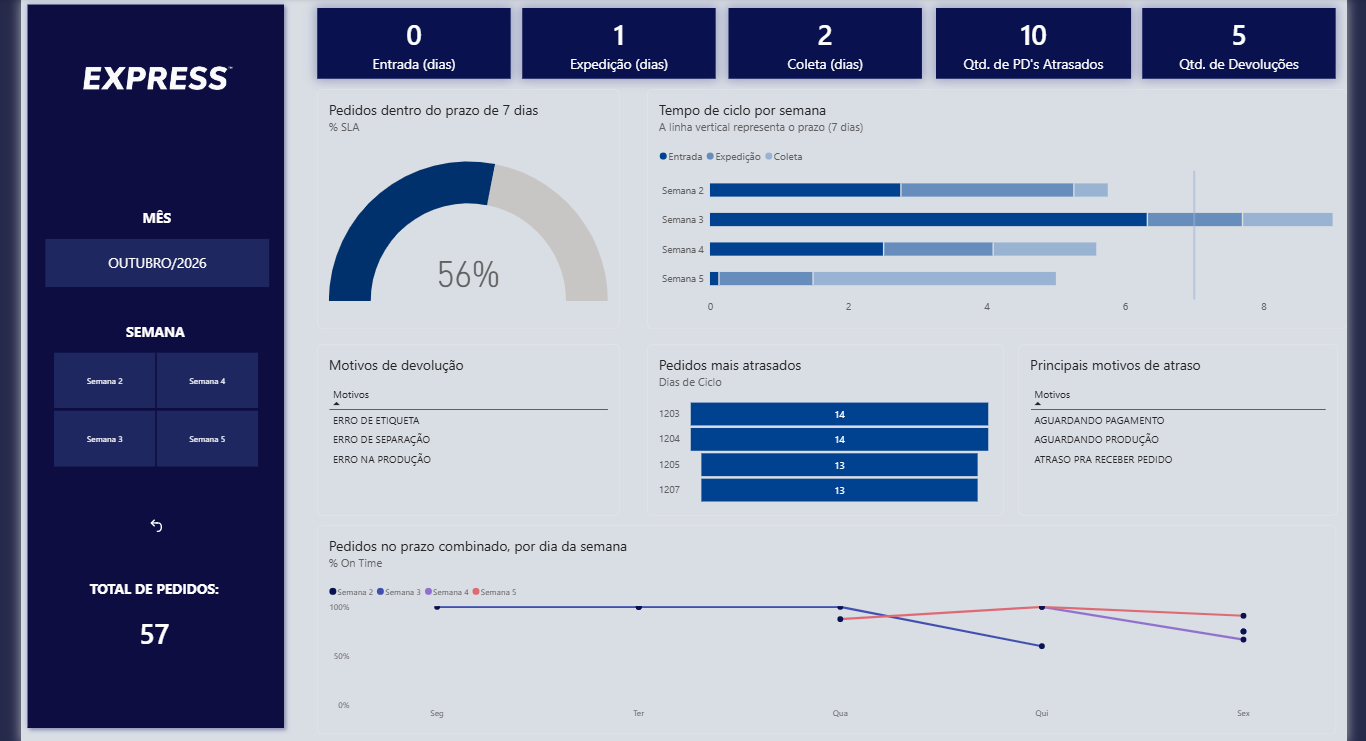

Layout of this report page (visuals, bound fields, positions):
{"tool":"powerbi","page":{"name":"Página 1","canvas":[1920,1080],"ordinal":0},"visuals":[{"type":"shape","box":[0,0,390,1066],"z":0},{"type":"card","fields":{"Values":["_Medidas.Tempo de Processo de Entrada"]},"box":[428,14,280,102],"z":1000},{"type":"card","fields":{"Values":["_Medidas.QTD Devoluções"]},"box":[1624,14,280,102],"z":2000},{"type":"card","fields":{"Values":["_Medidas.Tempo de Expedição"]},"box":[726,14,280,102],"z":3000},{"type":"card","title":"TOTAL DE PEDIDOS:","fields":{"Values":["_Medidas.QTD PDs do Mês"]},"box":[48.9,841.5,288,114],"z":4000},{"type":"card","fields":{"Values":["_Medidas.Tempo de Coleta"]},"box":[1024,14,280,102],"z":5000},{"type":"gauge","title":"Pedidos dentro do prazo de 7 dias","fields":{"Y":["_Medidas.% SLA"]},"box":[428.9,132.1,437.9,347.5],"z":6000},{"type":"lineChart","title":"Pedidos no prazo combinado, por dia da semana","fields":{"Category":["fExpedicao.Dia da Semana (Saída)"],"Series":["fExpedicao.Semana do Mês (p Saída)"],"Y":["_Medidas.% On Time"]},"box":[428.9,763.7,1474.9,302.2],"z":7000},{"type":"barChart","title":"Tempo de ciclo por semana","fields":{"Category":["fExpedicao.Semana do Mês (p Saída)"],"Y":["_Medidas.Dias Entrada (média)","_Medidas.Dias Expedição (base)","_Medidas.Dias Coleta (base)"]},"box":[906.6,132.1,1013.4,347.5],"z":8000},{"type":"slicer","title":"MÊS","fields":{"Values":["fExpedicao.MÊS"]},"box":[14,304,364,116],"z":9000},{"type":"slicer","title":"SEMANA","fields":{"Values":["fExpedicao.Semana do Mês (p Saída)"]},"box":[27.1,468.7,334.8,211.7],"z":10000},{"type":"card","fields":{"Values":["_Medidas.QTD Pedidos Atrasados"]},"box":[1324,14,282,102],"z":12000},{"type":"tableEx","title":"Motivos de devolução","fields":{"Values":["fExpedicao.DEVOLUÇÃO"]},"box":[428.9,501.3,438,248],"z":13000},{"type":"tableEx","title":"Principais motivos de atraso","fields":{"Values":["fExpedicao.ATRASO"]},"box":[1444.1,501.3,462,248],"z":14000},{"type":"funnel","title":"Pedidos mais atrasados","fields":{"Category":["fExpedicao.ID PEDIDO"],"Y":["_Medidas.Dias de Ciclo (atrasados)"]},"box":[906.6,501.3,515.9,248.5],"z":15000},{"type":"actionButton","title":"Redefinir","box":[141.2,705.8,110,116],"z":16000},{"type":"image","box":[0,34.4,390.9,162.9],"z":16001}]}

Visuals, with their boxes in screenshot pixels (x1, y1, x2, y2):
shape: <bbox>18, 0, 281, 713</bbox>
card - _Medidas.Tempo de Processo de Entrada: <bbox>307, 2, 496, 71</bbox>
card - _Medidas.QTD Devoluções: <bbox>1115, 2, 1304, 71</bbox>
card - _Medidas.Tempo de Expedição: <bbox>508, 2, 697, 71</bbox>
"TOTAL DE PEDIDOS:" card: <bbox>51, 561, 245, 638</bbox>
card - _Medidas.Tempo de Coleta: <bbox>710, 2, 899, 71</bbox>
"Pedidos dentro do prazo de 7 dias" gauge: <bbox>308, 82, 603, 317</bbox>
"Pedidos no prazo combinado, por dia da semana" lineChart: <bbox>308, 509, 1304, 713</bbox>
"Tempo de ciclo por semana" barChart: <bbox>630, 82, 1315, 317</bbox>
"MÊS" slicer: <bbox>27, 198, 273, 277</bbox>
"SEMANA" slicer: <bbox>36, 310, 262, 453</bbox>
card - _Medidas.QTD Pedidos Atrasados: <bbox>912, 2, 1103, 71</bbox>
"Motivos de devolução" tableEx: <bbox>308, 332, 604, 499</bbox>
"Principais motivos de atraso" tableEx: <bbox>993, 332, 1306, 499</bbox>
"Pedidos mais atrasados" funnel: <bbox>630, 332, 979, 499</bbox>
"Redefinir" actionButton: <bbox>113, 470, 188, 548</bbox>
image: <bbox>18, 16, 282, 126</bbox>
